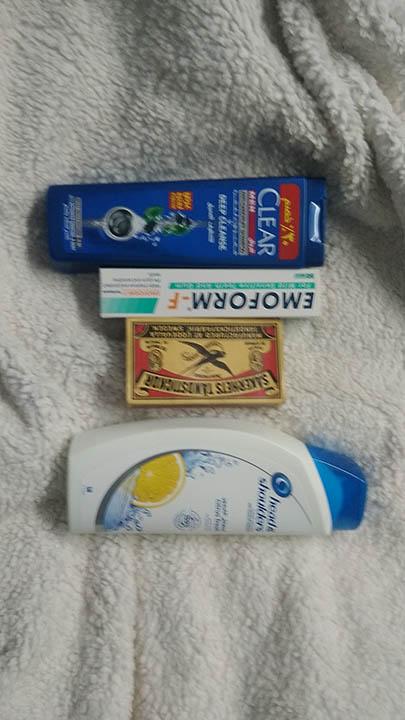Shampoo-Clear 4.7$: (43, 174, 332, 270)
Toothpaste-F 1.5$: (94, 272, 326, 317)
match-sticks .90$: (123, 317, 290, 407)
shampoo-Lemon 3.5$: (54, 421, 373, 546)
